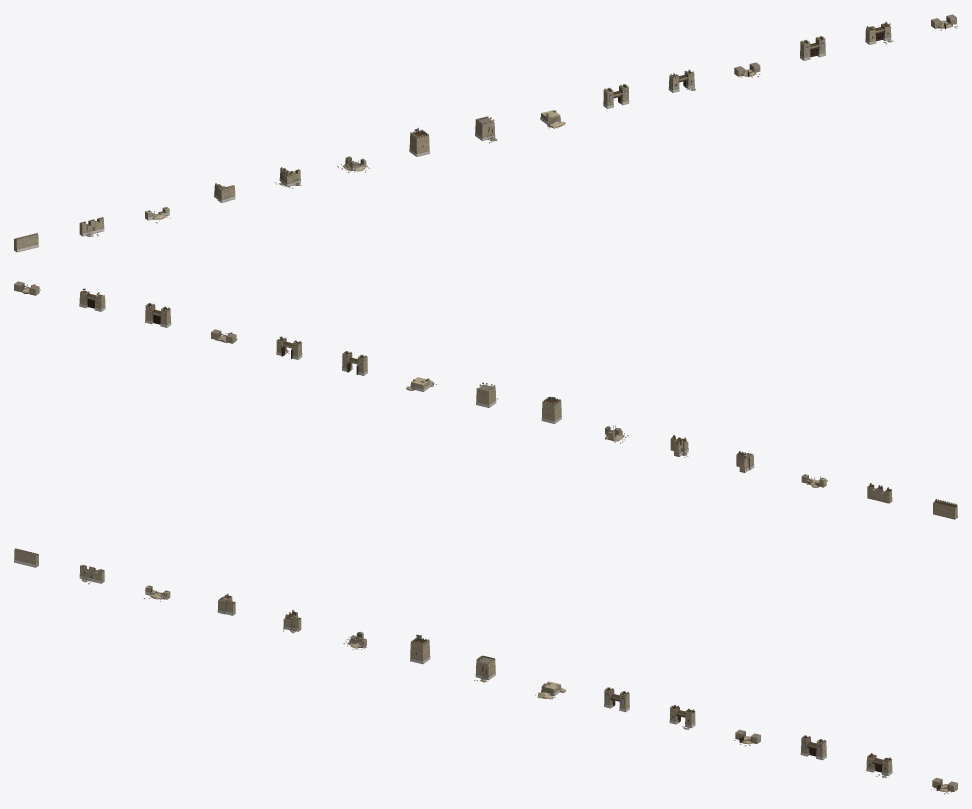
Rendered from walls-classical.glb.
3 views of the same model, one above another, from view 1: azimuth 30°, elevation 25°; view 2: azimuth 150°, elevation 25°; view 3: azimuth 330°, elevation 25° (orthographic).
Size of what is drawn, in the model's own units: 43 by 1.05 by 1.35.
Materials: 2 (2 with a texture image).
